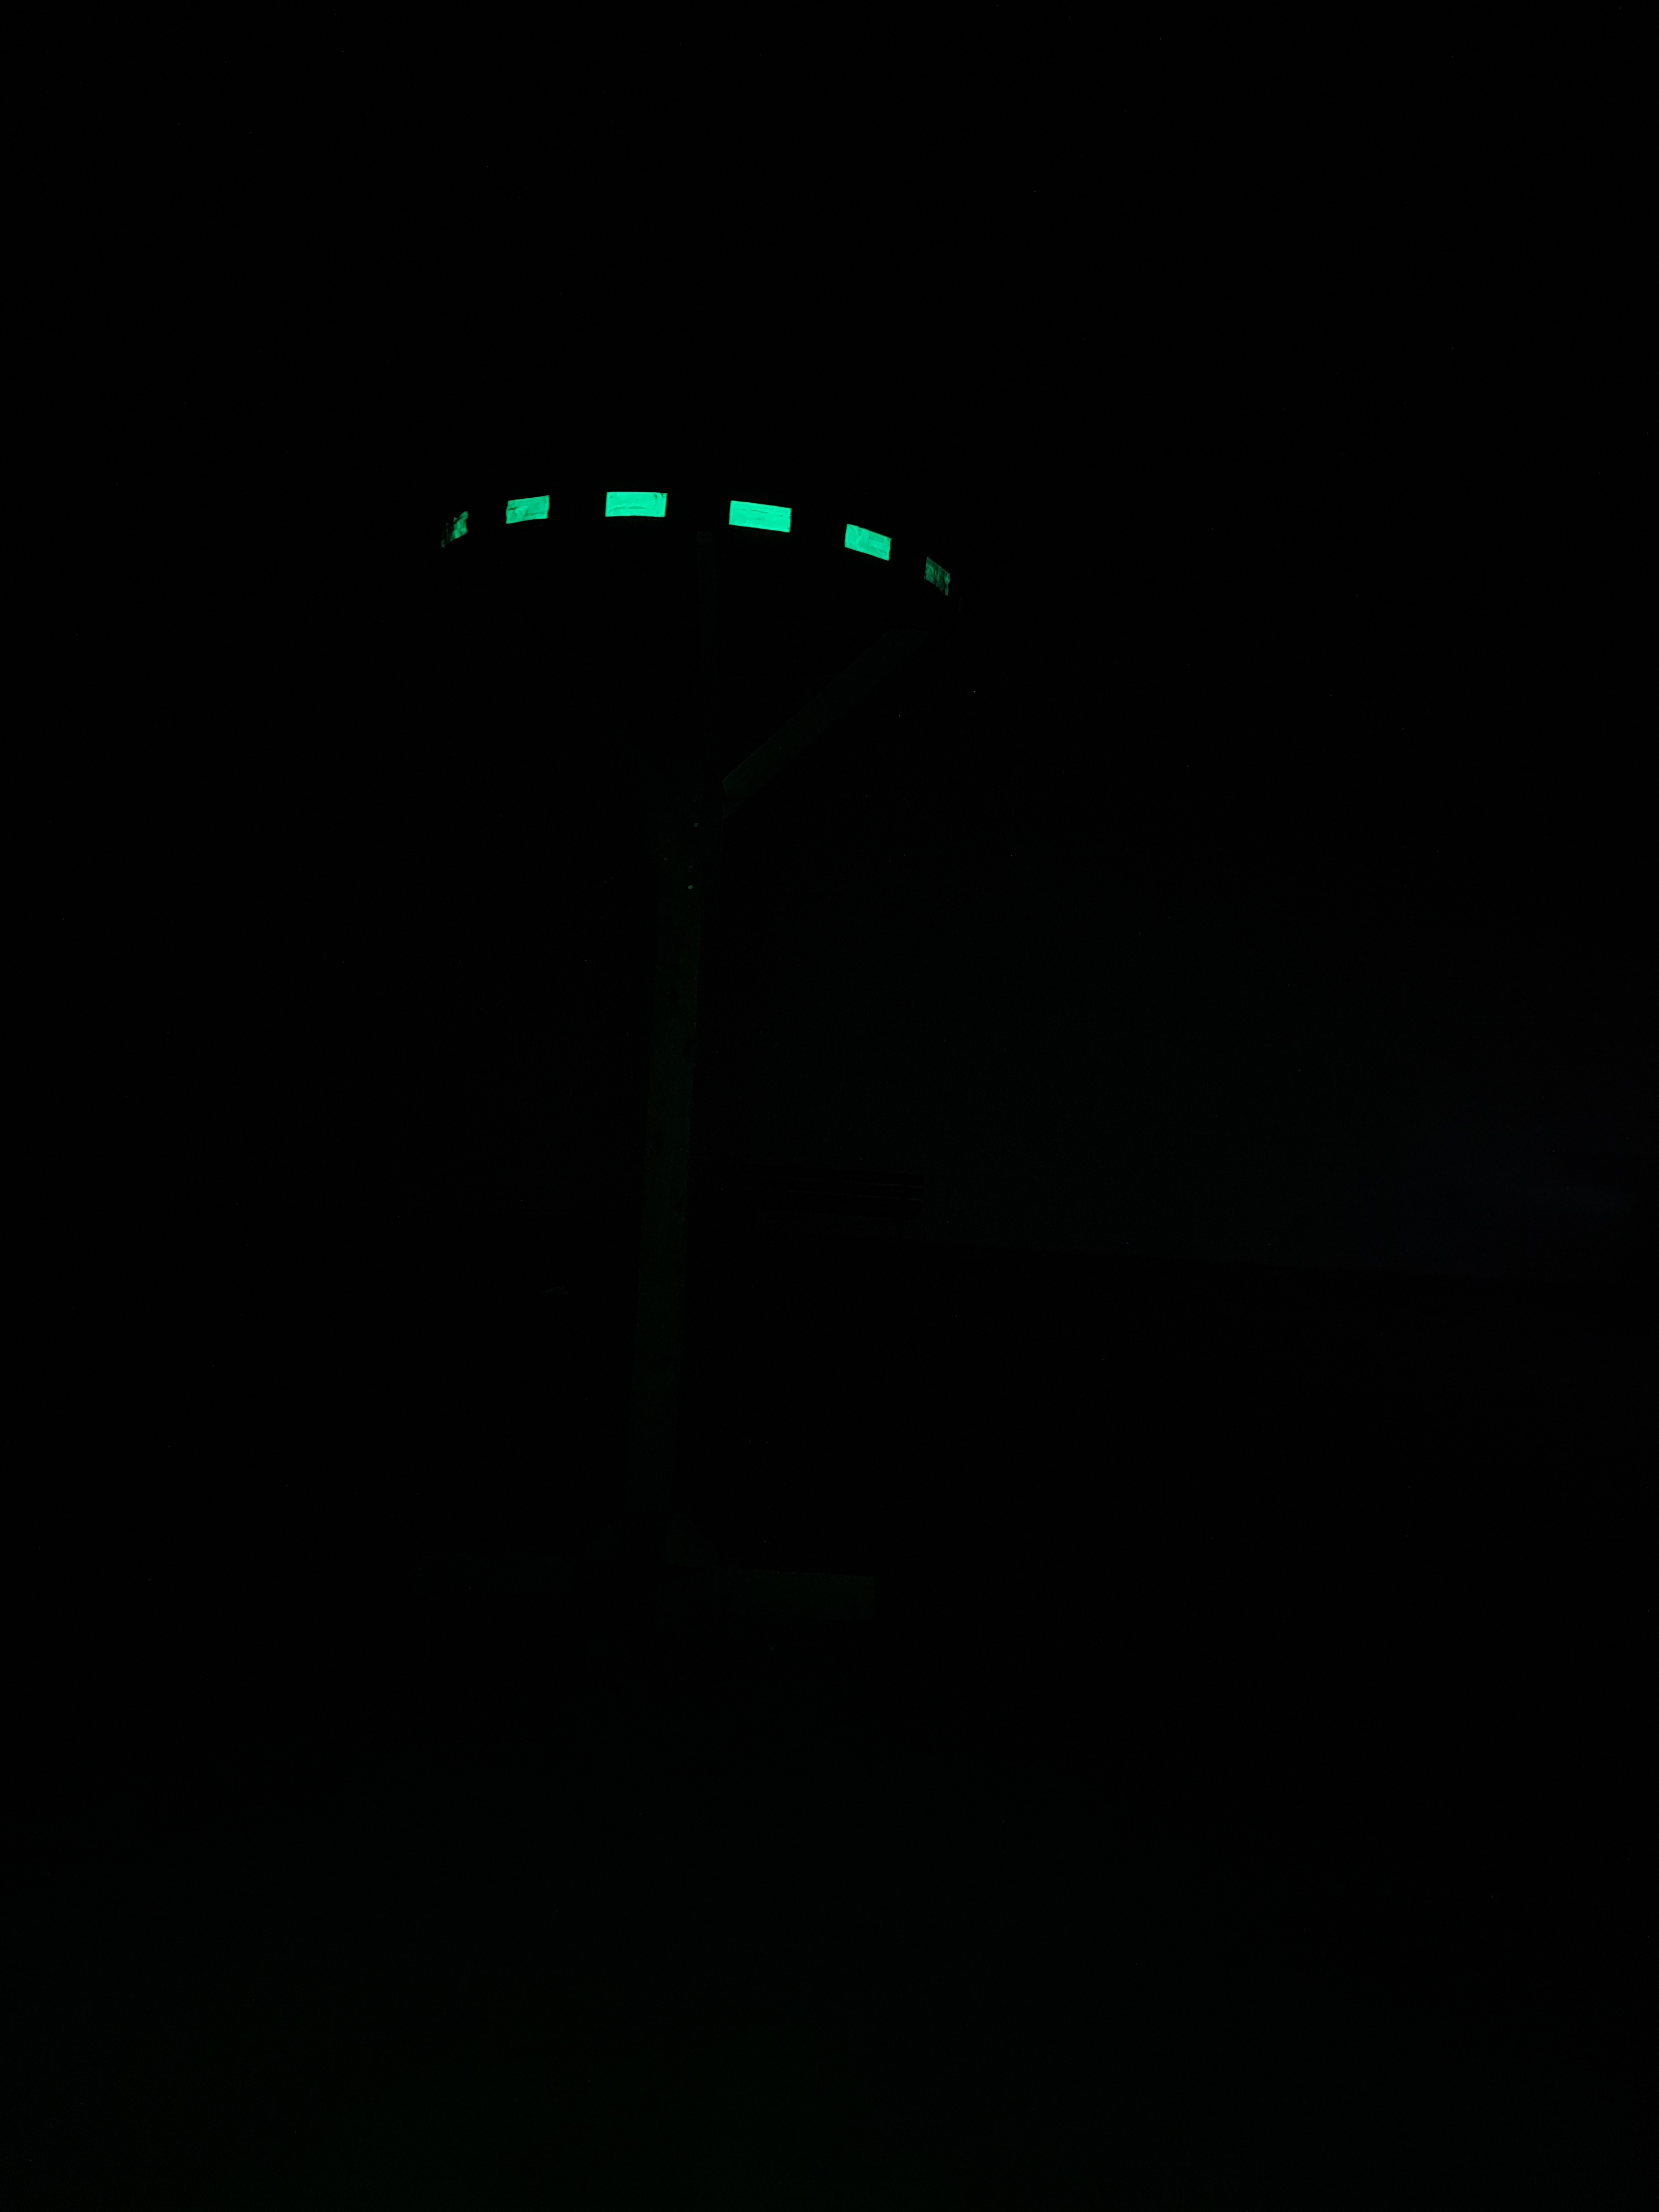hoop: (441, 477, 957, 611)
